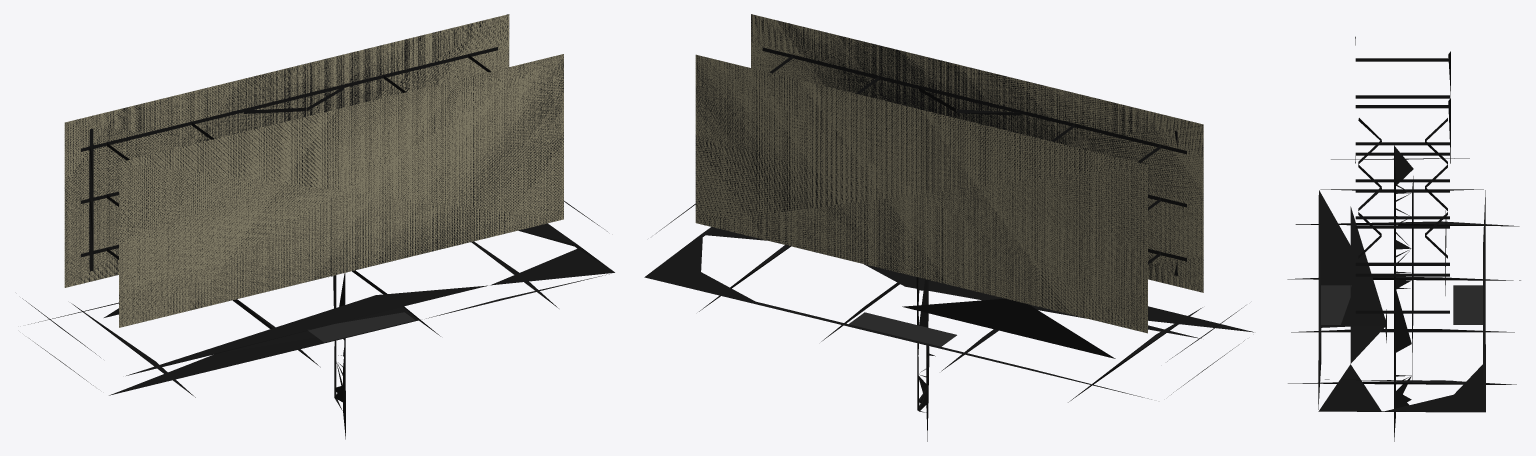
Rendered from billboard-tall.lod2.glb.
The picture shows the model from 3 angles, left to right: view 1: azimuth 30°, elevation 25°; view 2: azimuth 150°, elevation 25°; view 3: azimuth 270°, elevation 25°; orthographic projection. The views are drawn at different scales.
Parts seen in each view (by area): view 1: ADs_AD_0; view 2: ADs_AD_0; view 3: ADs_AD_0.
Part boxes in pixels (box(x1,y1,x2,y2)): ADs_AD_0: box(22, 14, 614, 439); ADs_AD_0: box(644, 14, 1253, 441); ADs_AD_0: box(1287, 36, 1520, 441).
Bounding box in the file's own units: 10.94 × 7.34 × 4.95.
